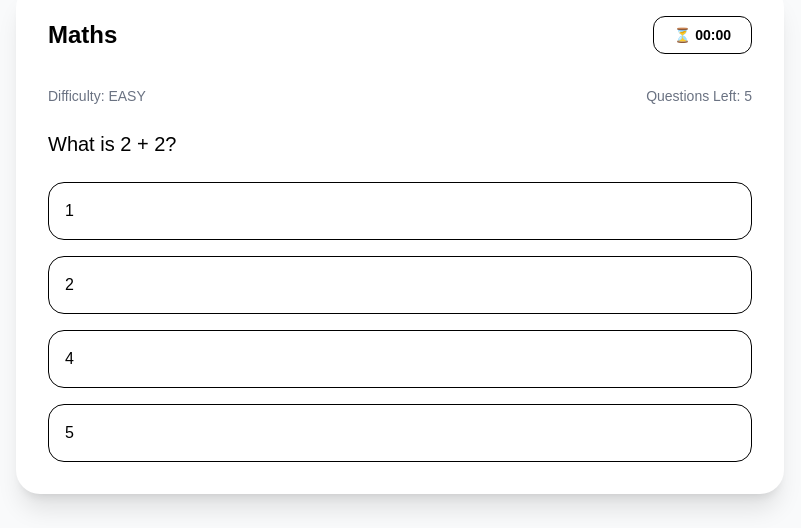
Test: QuizClient › loads next question after answer is submitted
This screenshot has width=801, height=528.
Expected: the heading "What is 2 + 2?" is shown, [48,133,176,155]
Click the button "4" at {"x": 69, "y": 358}, box [48,330,752,388]
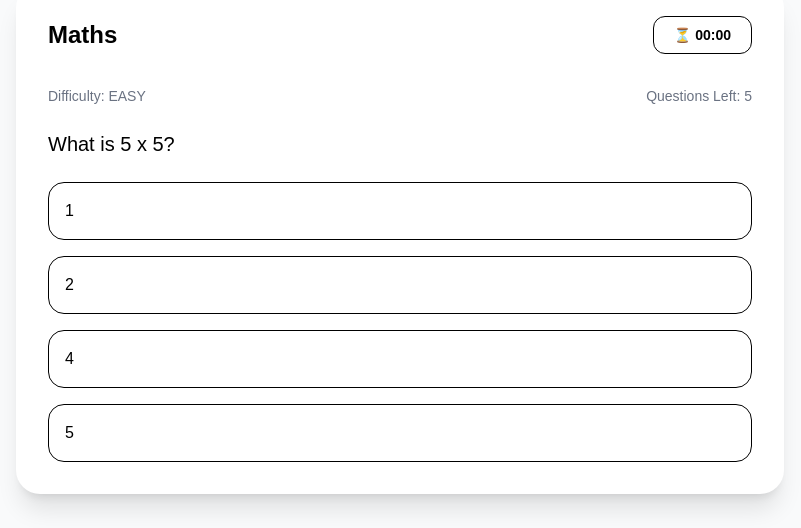
Expected: the heading "What is 5 x 5?" is shown, [48,133,175,155]
